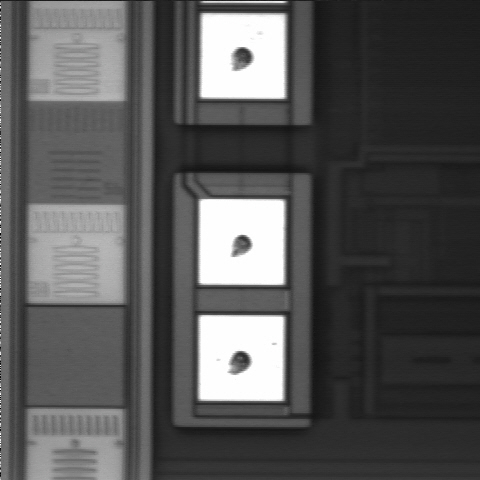pad: (199, 199, 284, 285), (199, 315, 284, 401), (201, 13, 285, 99)
